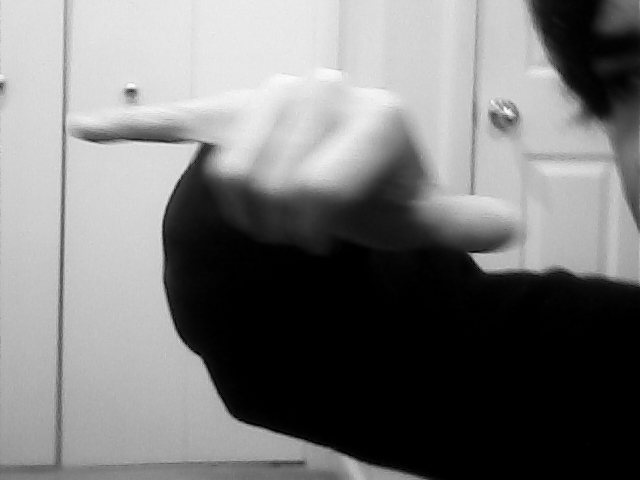aloha: (66, 70, 524, 256)
